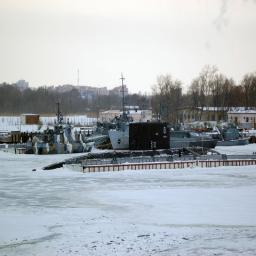submarine: (43, 124, 224, 173)
